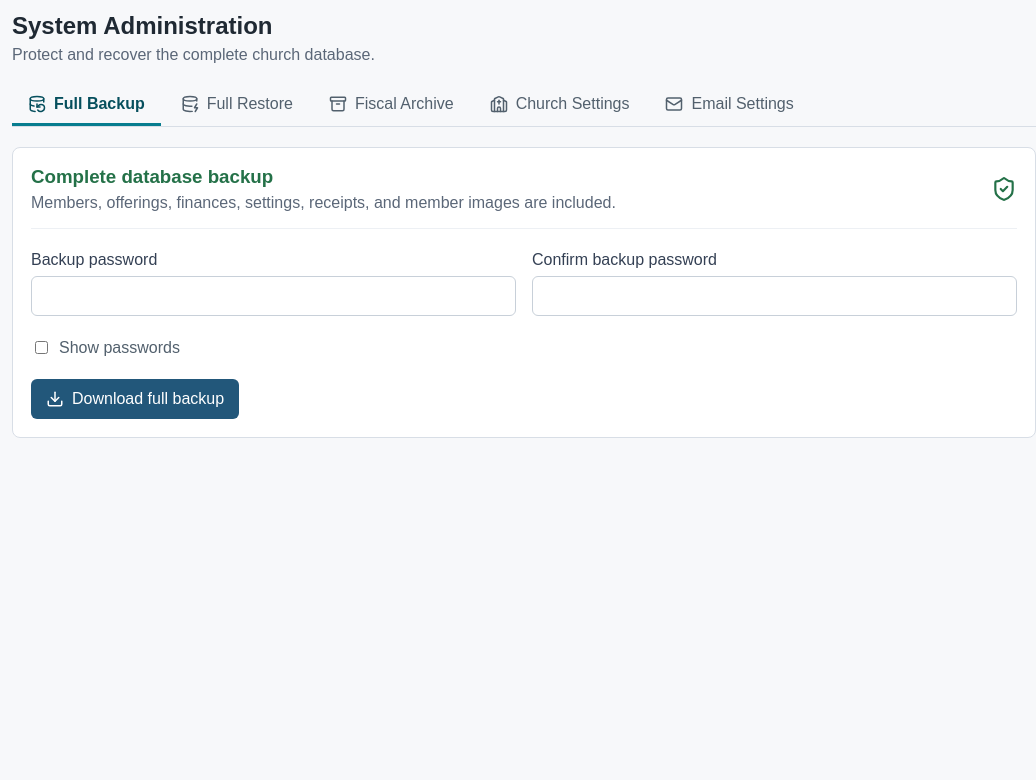
Test: SystemAdministrationView › loads masked email settings and defaults the test recipient to the admin email
Click the tab "Email Settings": x=730, y=105 [650,84,810,126]
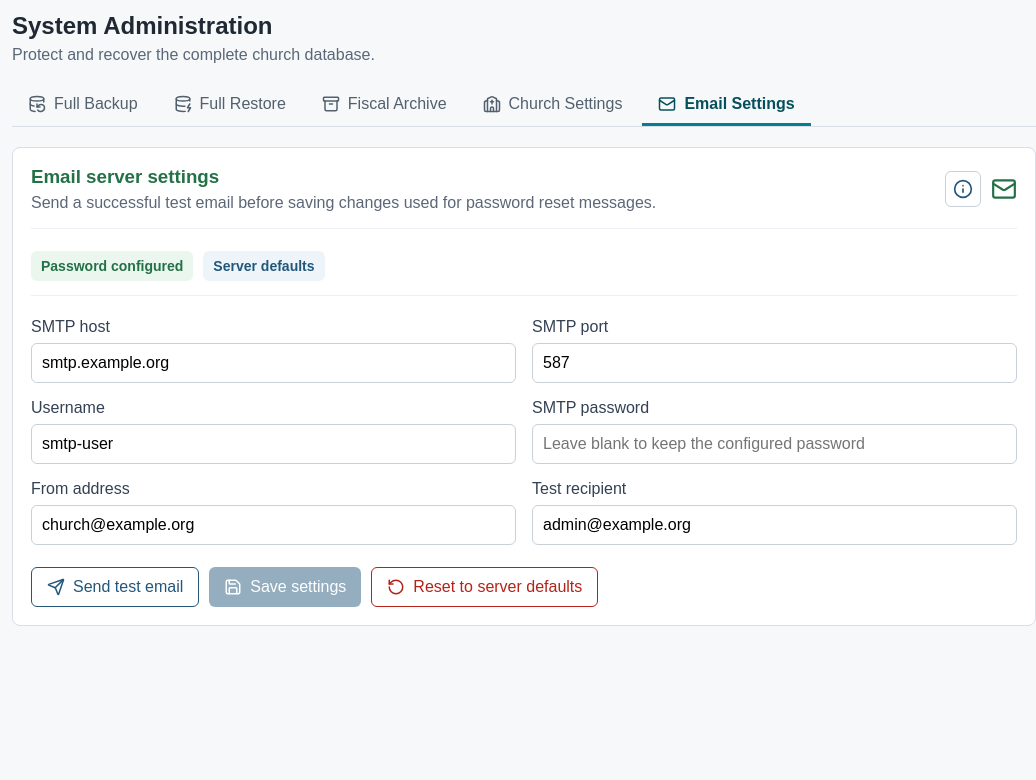
Result: the field labelled "SMTP host" holds "smtp.example.org" at [31,343,516,383]
Result: the field labelled "Test recipient" holds "admin@example.org" at [532,505,1017,545]
Result: the text "Password configured" is shown at [31,251,193,281]
